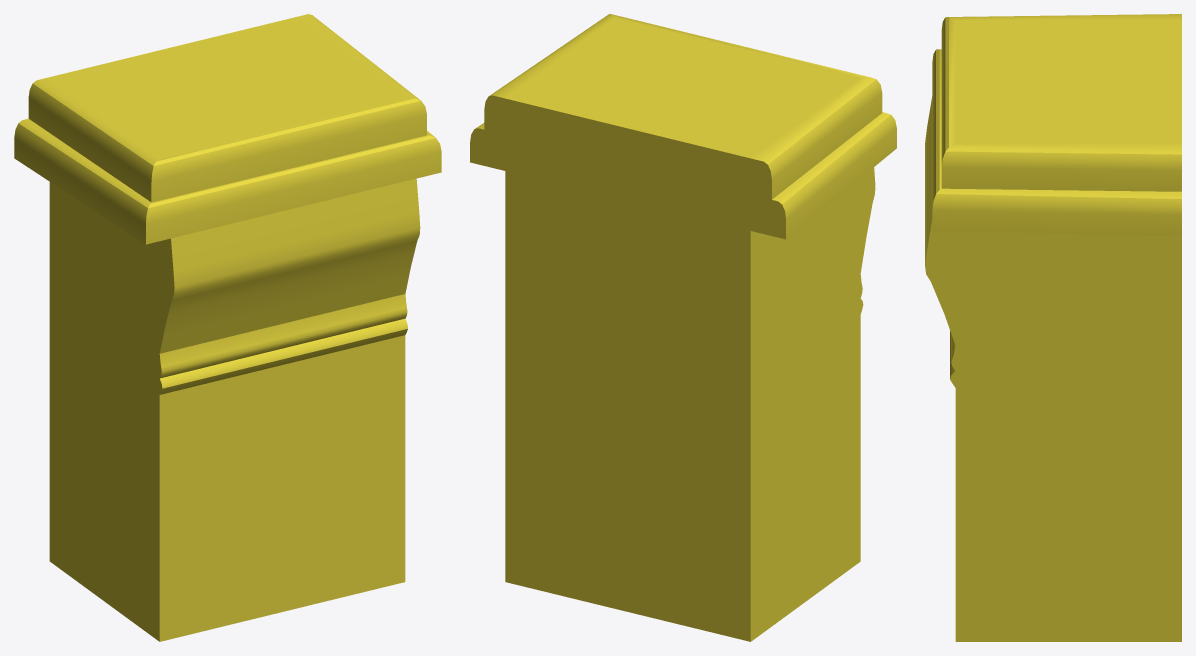
File: PilastraSuporteQuadrada.fbx
3 renders of one model, left to right at view 1: azimuth 30°, elevation 25°; view 2: azimuth 150°, elevation 25°; view 3: azimuth 270°, elevation 25°, orthographic. The views are drawn at different scales.
Visible parts, largest first — view 1: PilastraSuporteQuadrada; view 2: PilastraSuporteQuadrada; view 3: PilastraSuporteQuadrada.
Part boxes in pixels (x1,y1,x2,y2): PilastraSuporteQuadrada: (14,14,441,641); PilastraSuporteQuadrada: (470,14,896,641); PilastraSuporteQuadrada: (925,14,1181,641).
Size of the model in its own units: 137 by 200 by 93.45.
